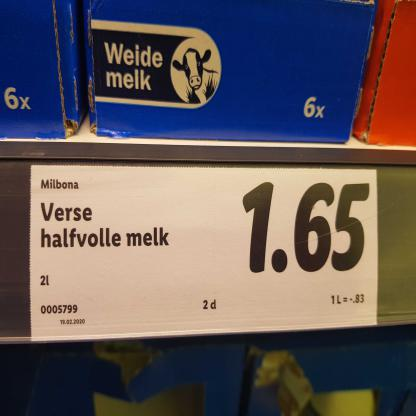prtg: (31, 166, 380, 342)
